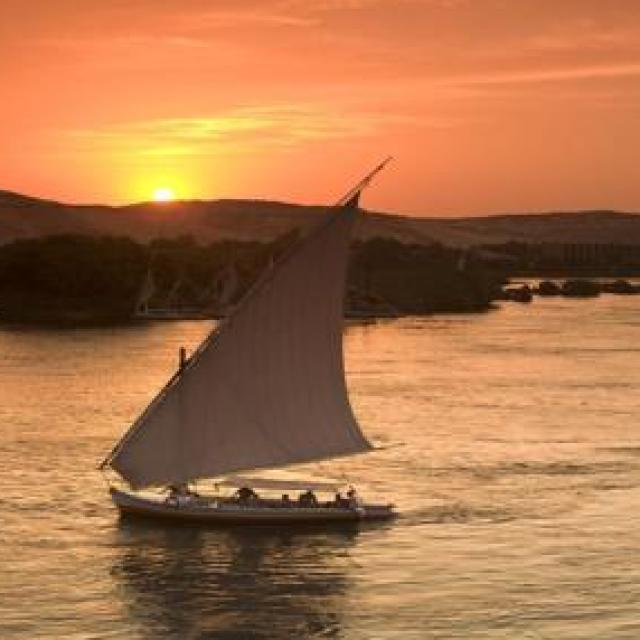sailboat: (108, 154, 412, 518)
